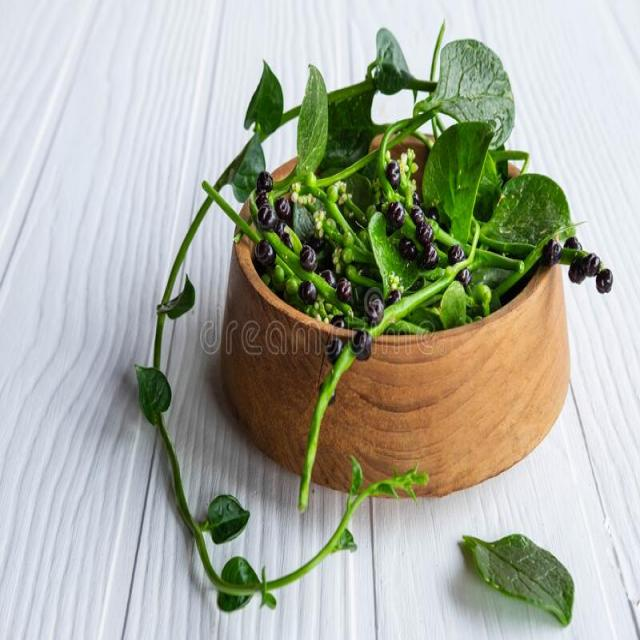Medicinal-Basale: (230, 35, 608, 301), (115, 251, 271, 623), (455, 518, 592, 626)
